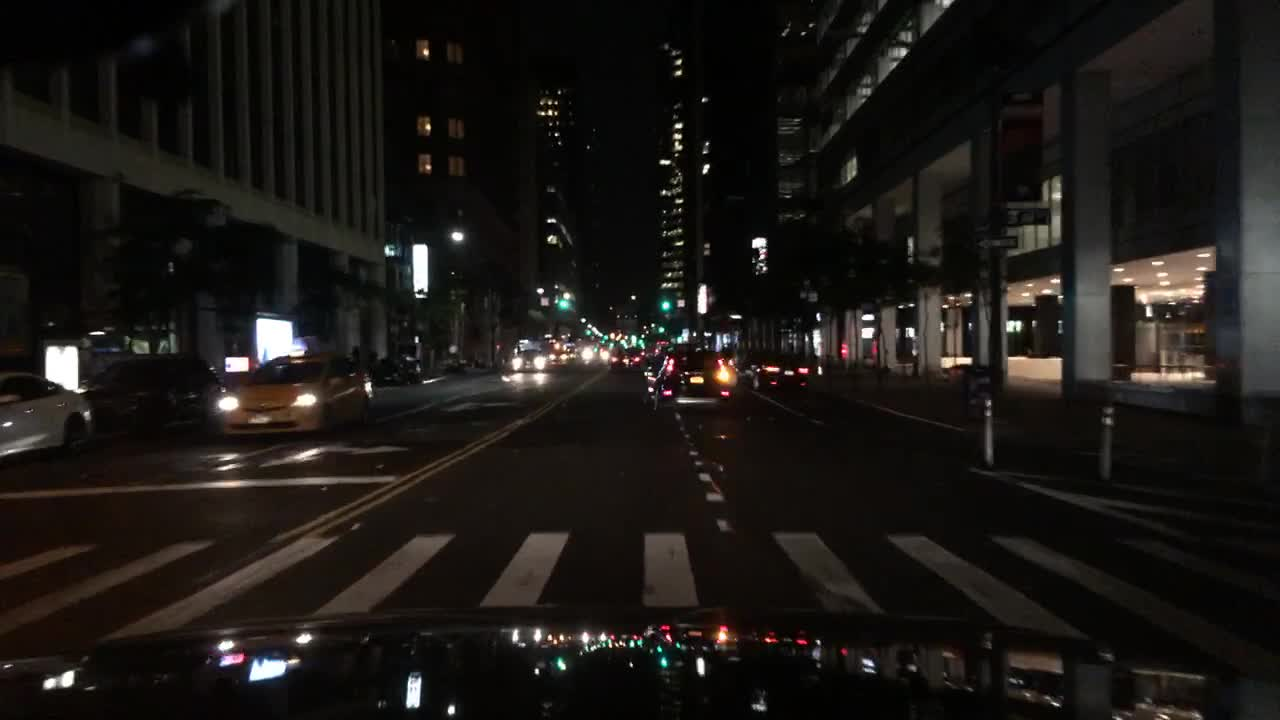car: (216, 349, 376, 439), (82, 351, 223, 436), (0, 370, 94, 466), (644, 348, 733, 412), (742, 349, 813, 396), (378, 357, 413, 388), (508, 349, 548, 375), (610, 346, 643, 377), (578, 344, 609, 365), (645, 356, 664, 382), (409, 359, 424, 384), (546, 345, 566, 362), (722, 349, 732, 376), (658, 339, 669, 356)
traffic light: (660, 300, 672, 313), (558, 298, 568, 313)
traffic sign: (1003, 205, 1048, 226), (977, 235, 1017, 250)
